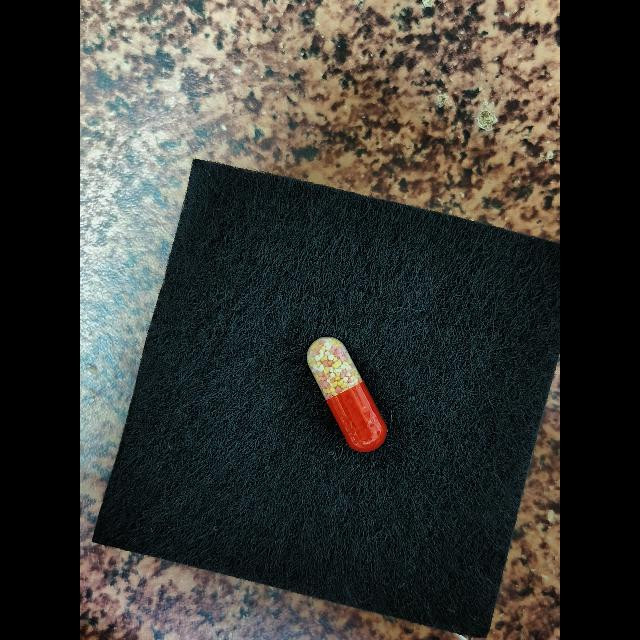Intact Capsule: (307, 336, 387, 452)
